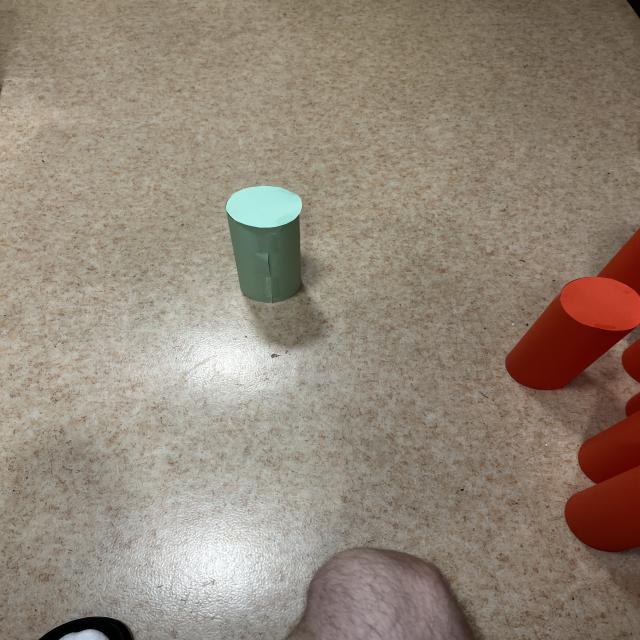meta: (226, 186, 302, 303)
